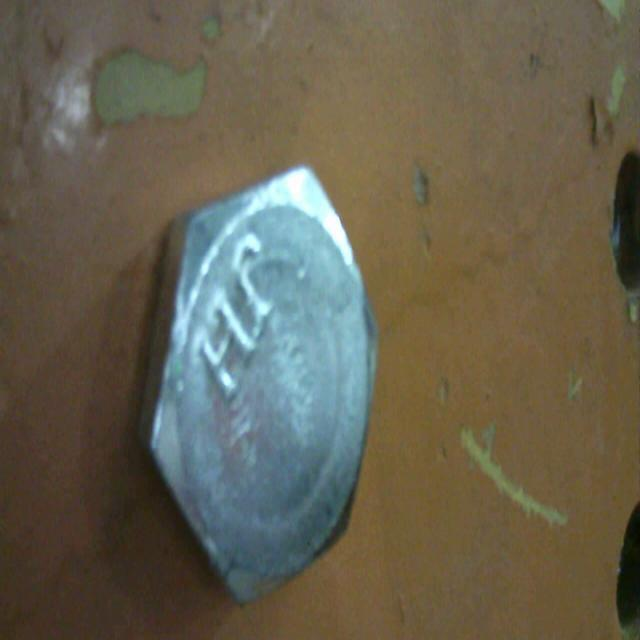Missing bolt: (613, 144, 640, 300), (618, 502, 640, 640)
Regular bolt: (142, 163, 383, 594)
